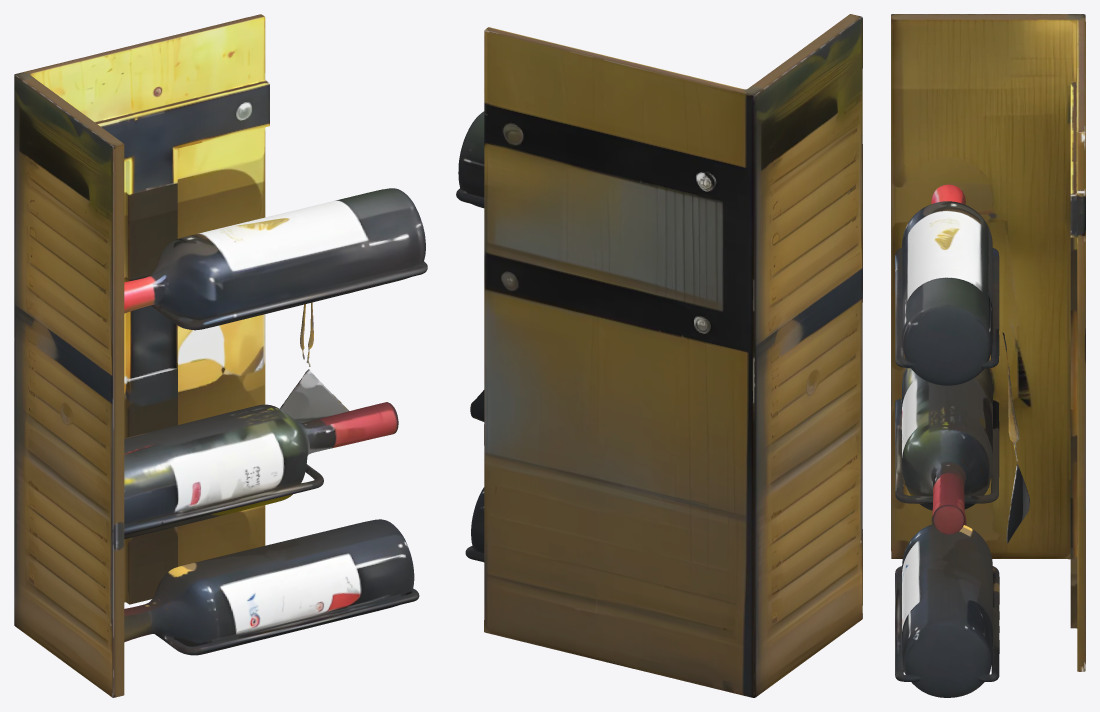
File: bodega-milan.glb
The picture shows the model from 3 angles, left to right: view 1: azimuth 30°, elevation 25°; view 2: azimuth 150°, elevation 25°; view 3: azimuth 270°, elevation 25°; orthographic projection. The views are drawn at different scales.
Parts seen in each view (by area): view 1: model; view 2: model; view 3: model.
Boxes of the visible parts, box(x1,y1,x2,y2) form: model: box(14, 14, 427, 697); model: box(456, 14, 862, 697); model: box(891, 14, 1085, 697).
Size of the model in its own units: 1.17 by 1.9 by 0.6215.
Materials: 1 (1 with a texture image).
